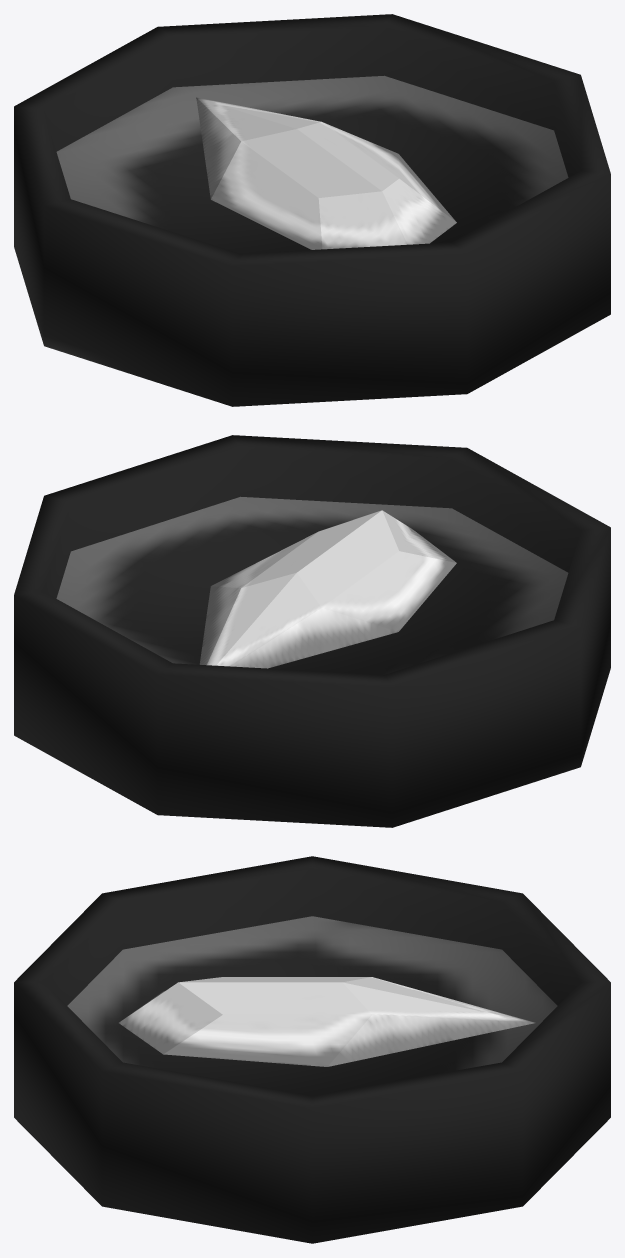
Rendered from antigravitywatch.fbx.
3 renders of one model, top to bottom at view 1: azimuth 30°, elevation 25°; view 2: azimuth 150°, elevation 25°; view 3: azimuth 270°, elevation 25°, orthographic. The views are drawn at different scales.
Parts seen in each view (by area): view 1: COLOR2, COLOR1; view 2: COLOR2, COLOR1; view 3: COLOR2, COLOR1.
Boxes of the visible parts, x1,y1,x2,y2 form: COLOR2: [14, 14, 610, 406]; COLOR1: [196, 97, 456, 249]; COLOR2: [14, 435, 610, 827]; COLOR1: [199, 510, 456, 668]; COLOR2: [14, 856, 610, 1243]; COLOR1: [119, 977, 535, 1066].
Size of the model in its own units: 200 by 50 by 200.
1 material, 1 textured.
